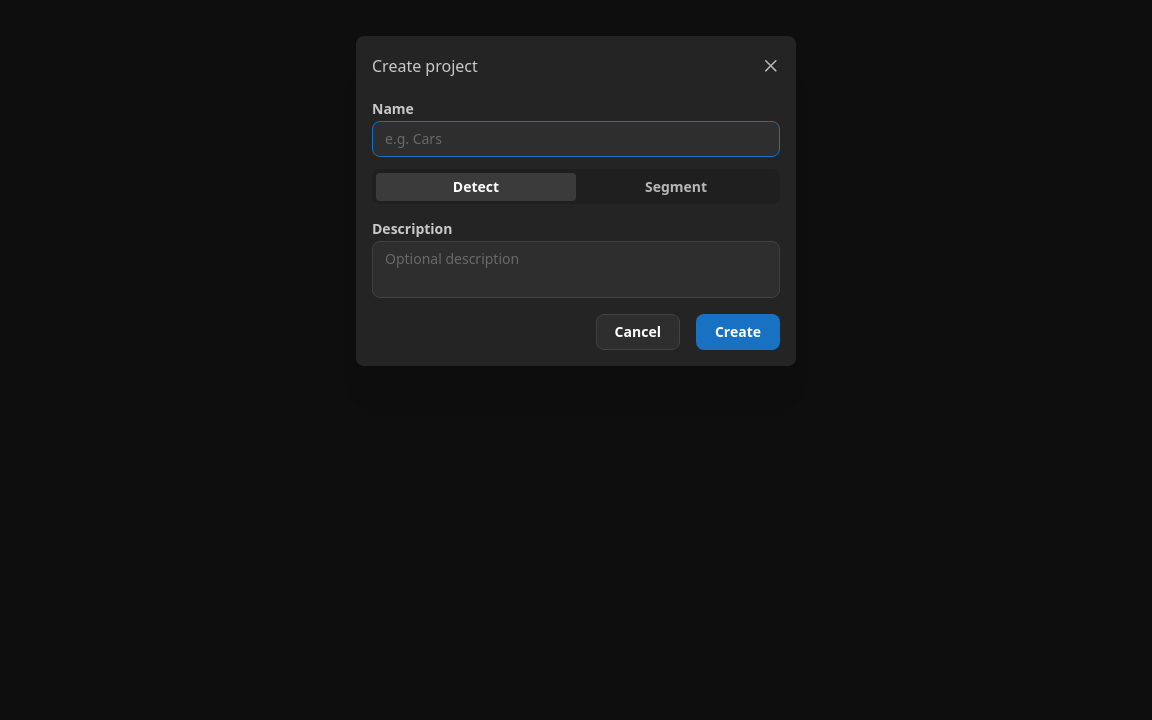
Test: CreateProjectModal › blocks submission with a translated message for an empty/whitespace name ()
Click the button "Create" at (738, 332), box [696, 314, 780, 350]
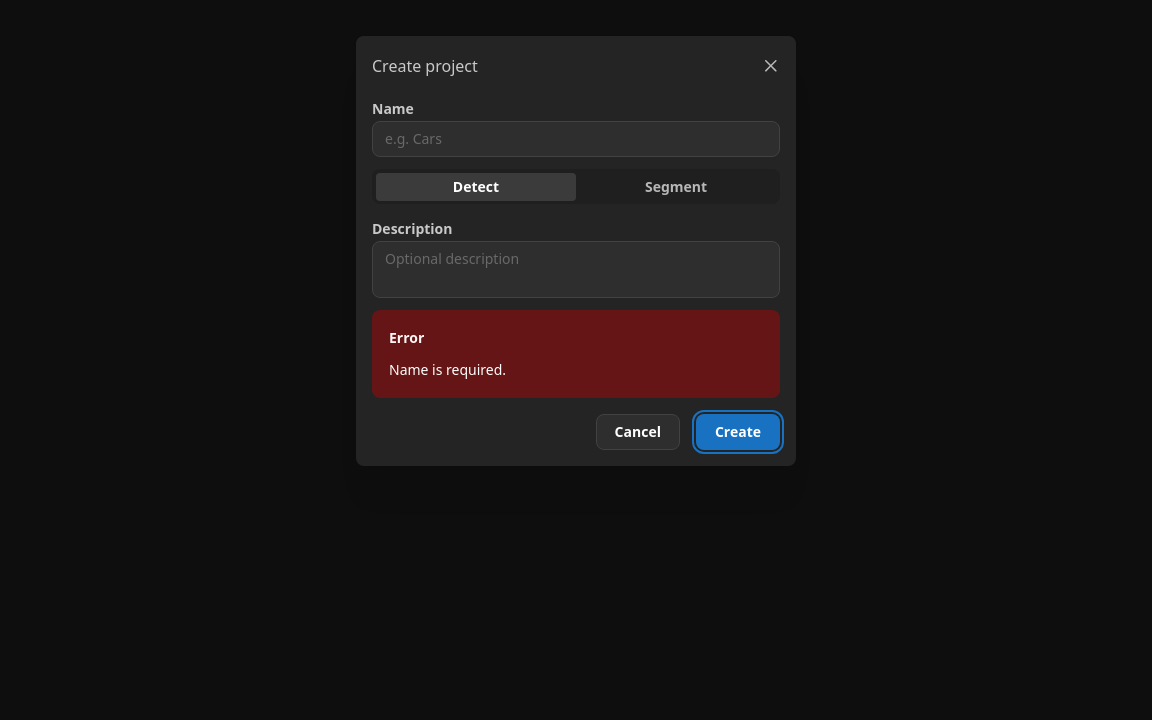
Now the text "Name is required." is shown, box [389, 360, 506, 379]
